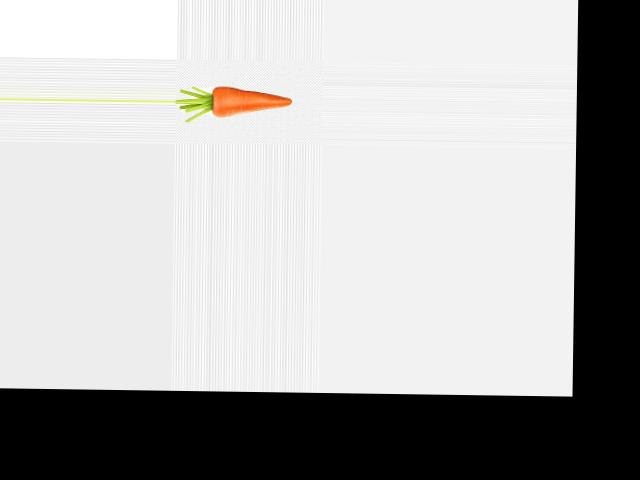carrot: (205, 84, 294, 122)
